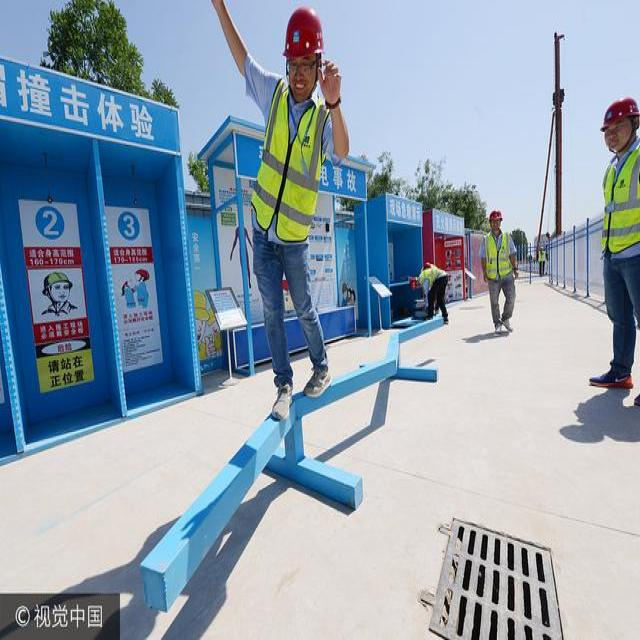Reflective-Jacket: (252, 79, 331, 245), (600, 142, 640, 257), (484, 230, 514, 278)
Safety-Helmet: (280, 4, 326, 59), (598, 93, 640, 131), (488, 207, 505, 221)
